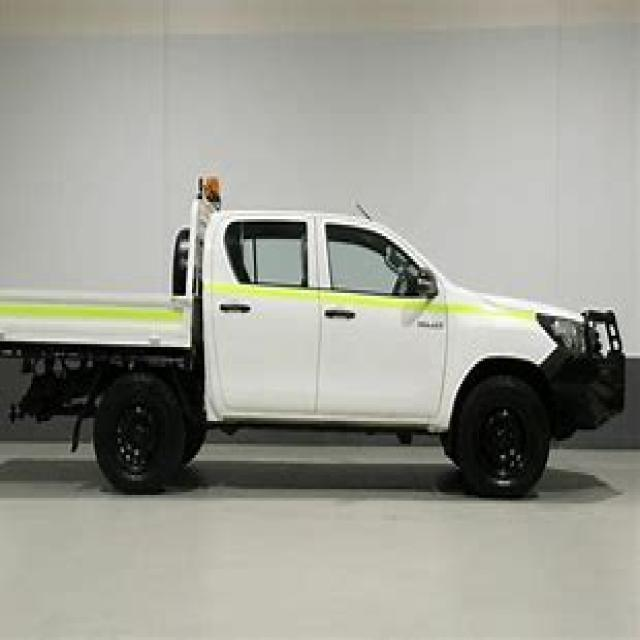light_vehicle: (2, 176, 630, 509)
